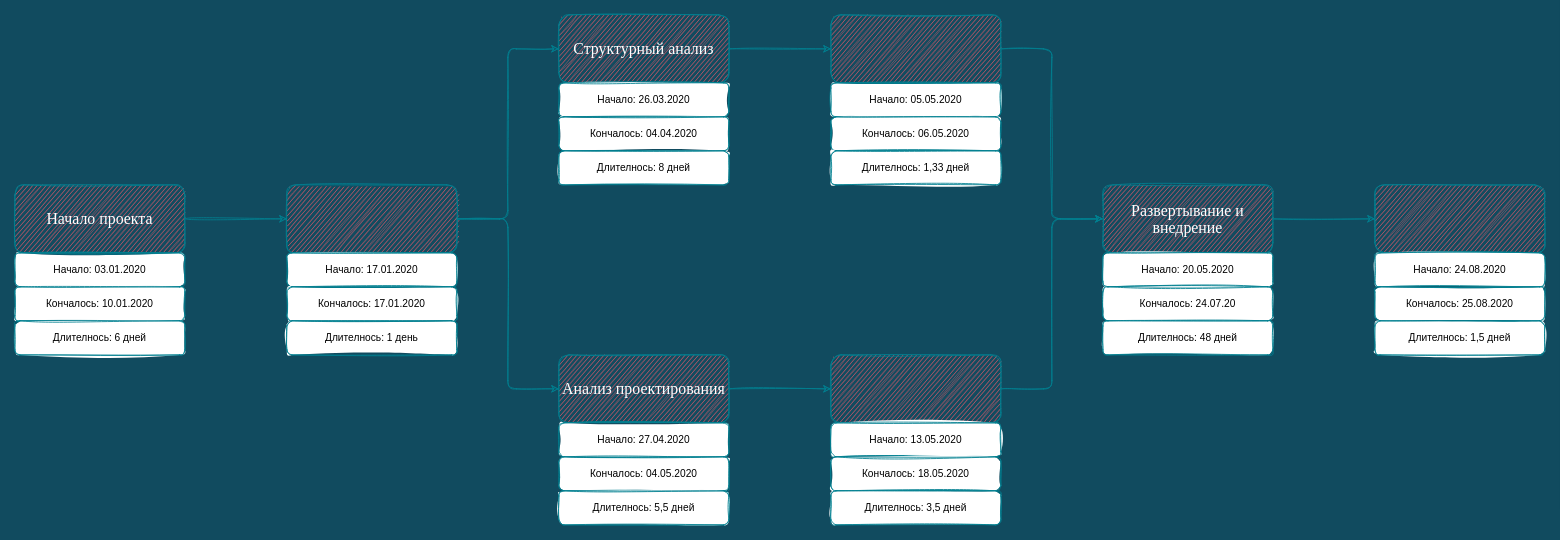
Image size: 1560x540. Some labels were removed from this diagram. The centre of each missing label's shape, as x and y in pixels:
Конец проекта: [1459,218]
Проектная команда сформирована: [371,218]
Реализация: [915,48]
Тестирование: [915,388]
